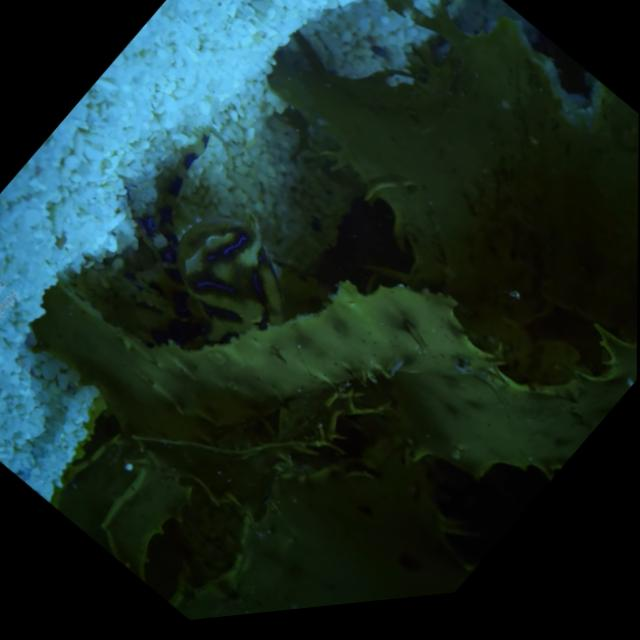blue_ringed_octopus: (57, 108, 355, 427)
